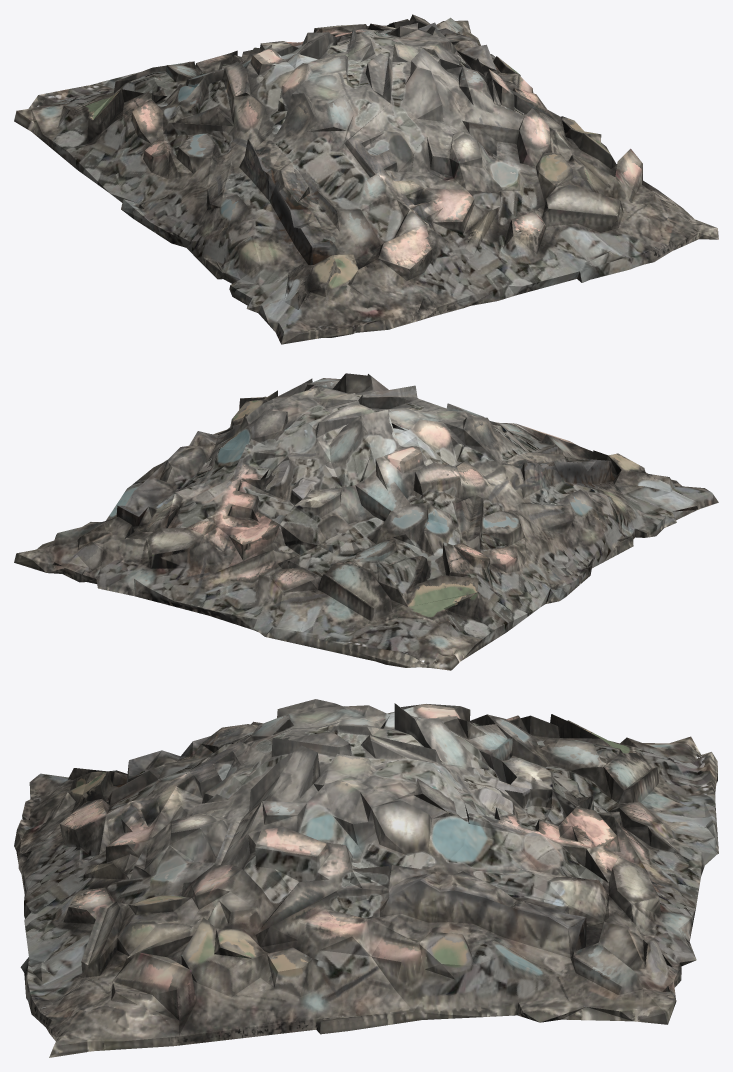
File: gareki.fbx
3 renders of one model, top to bottom at view 1: azimuth 30°, elevation 25°; view 2: azimuth 150°, elevation 25°; view 3: azimuth 270°, elevation 25°, orthographic. The views are drawn at different scales.
Bounding box in the file's own units: 18.1 × 6.28 × 20.18.
